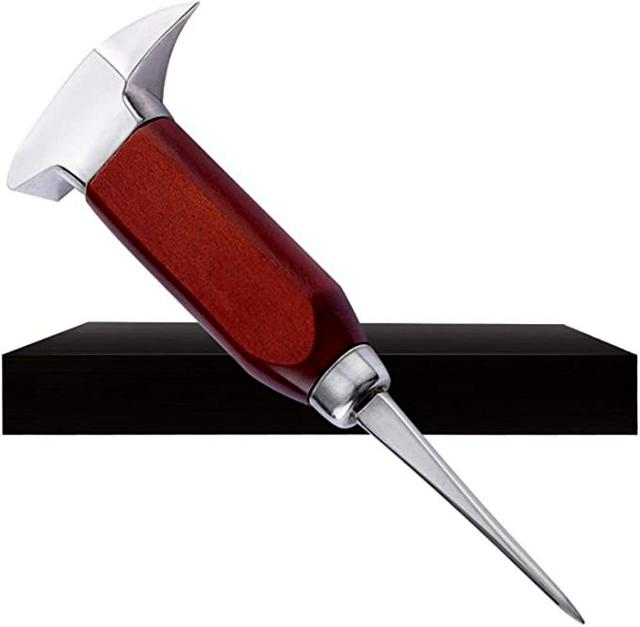ice pick: (5, 1, 587, 624)
